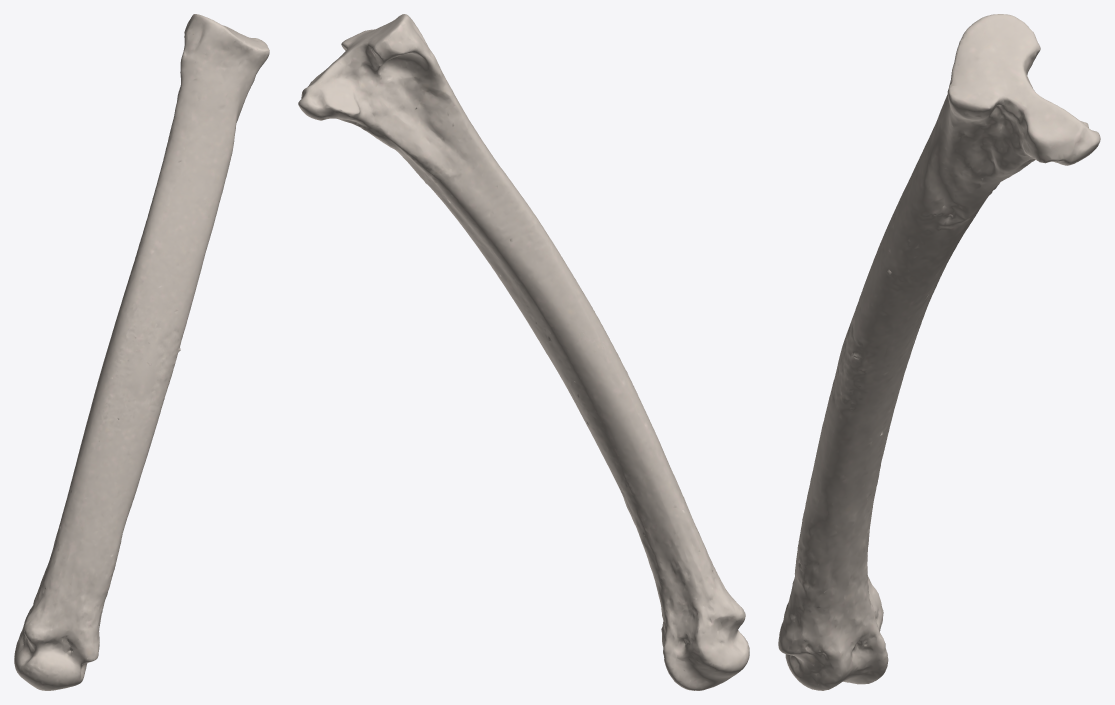
3 renders of one model, left to right at view 1: azimuth 30°, elevation 25°; view 2: azimuth 150°, elevation 25°; view 3: azimuth 270°, elevation 25°, orthographic. The views are drawn at different scales.
Parts seen in each view (by area): view 1: Mt_Katze2.001; view 2: Mt_Katze2.001; view 3: Mt_Katze2.001.
Boxes of the visible parts, x1=… form: Mt_Katze2.001: x1=14, y1=14, x2=269, y2=690; Mt_Katze2.001: x1=298, y1=14, x2=749, y2=690; Mt_Katze2.001: x1=778, y1=14, x2=1100, y2=690.
Bounding box in the file's own units: 2398 × 4306 × 1546.
Materials: 1 (1 with a texture image).
